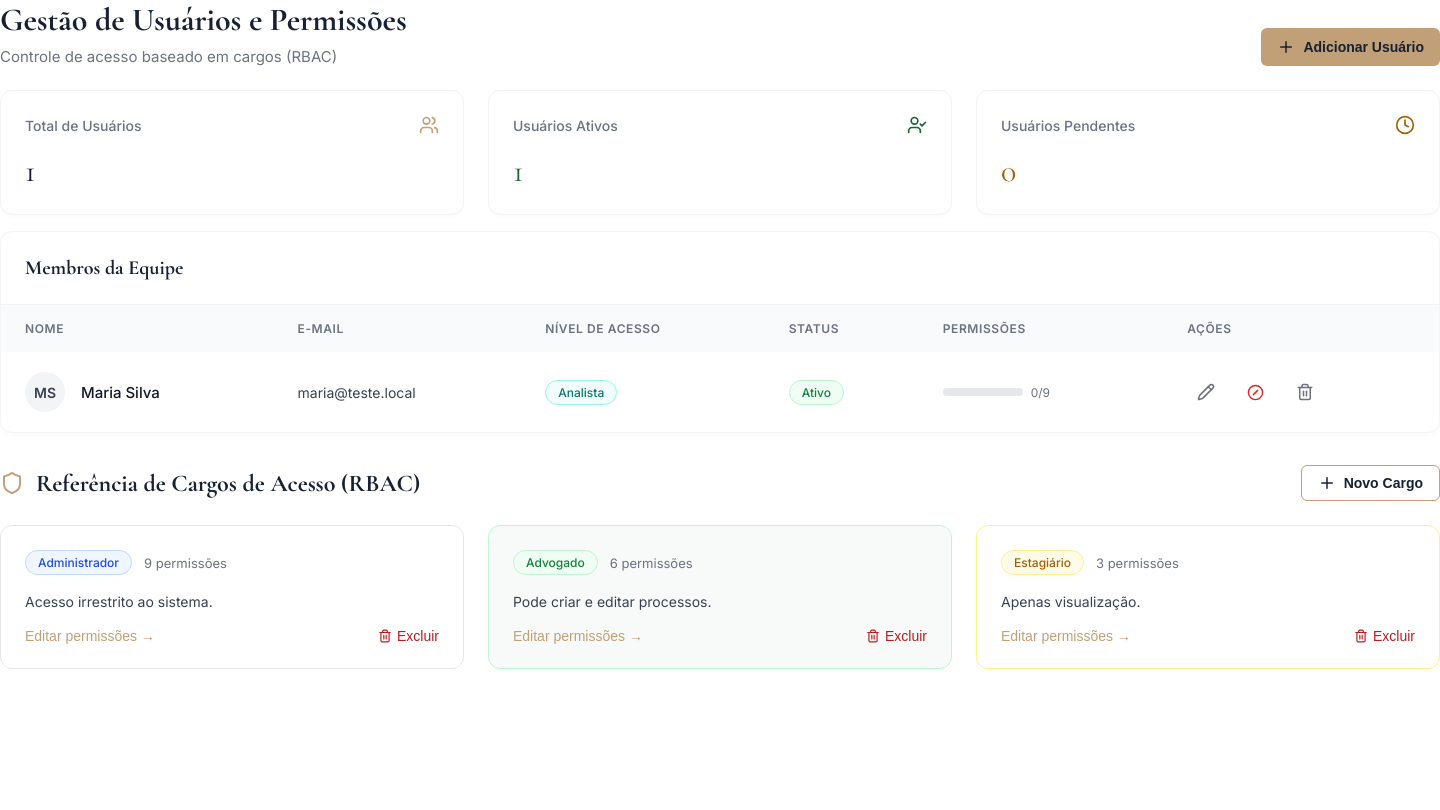
integração da página de equipe › mantém o membro e mostra erro quando a exclusão falha
The width and height of the screenshot is (1440, 810).
What coordinates should you click on to do the following:
click the button titled "Excluir usuário"
I would click on:
 (1305, 392)
Its box is [1286,375,1324,409].
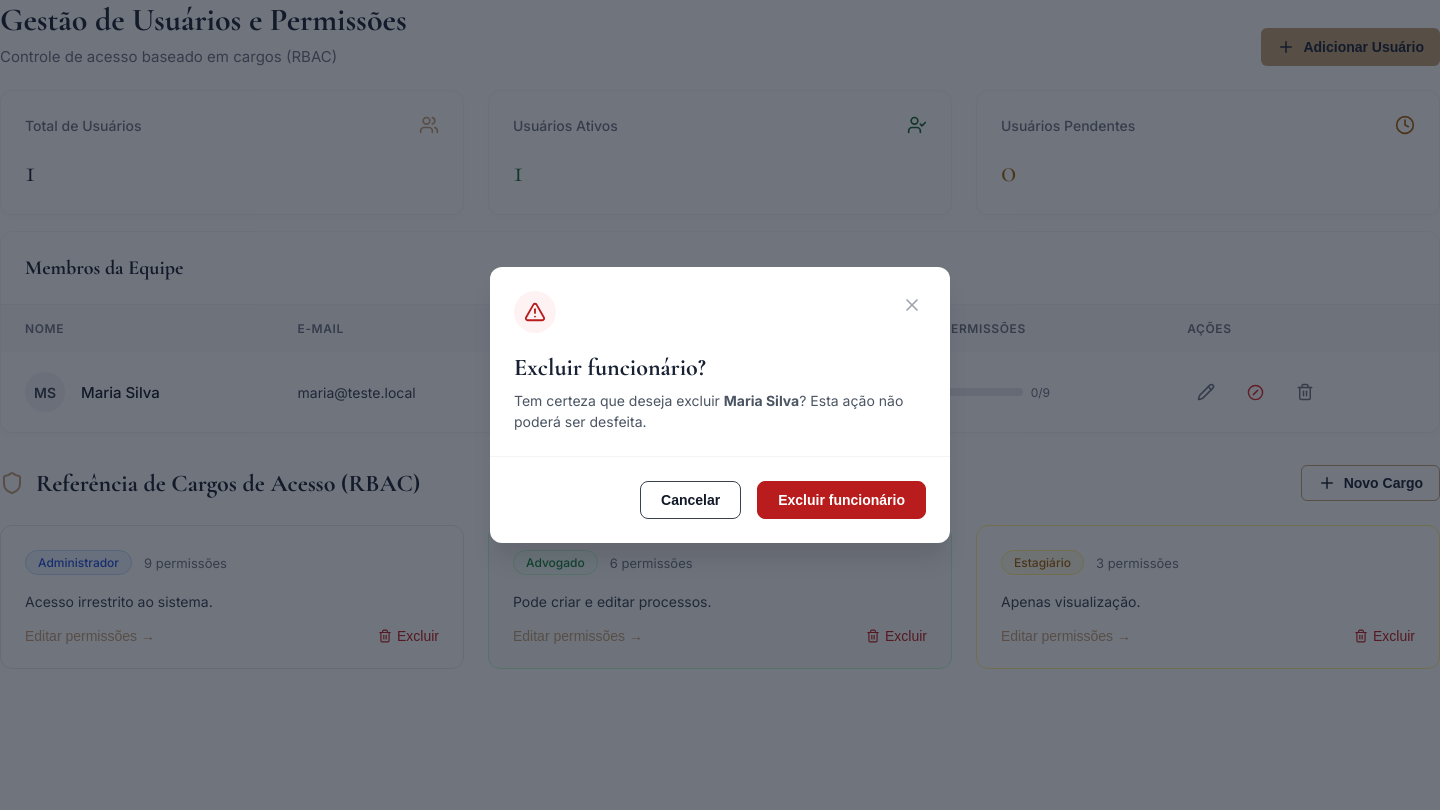
What coordinates should you click on to do the following:
click the button "Excluir funcionário"
I would click on:
 (842, 500)
Its box is [757,481,926,519].
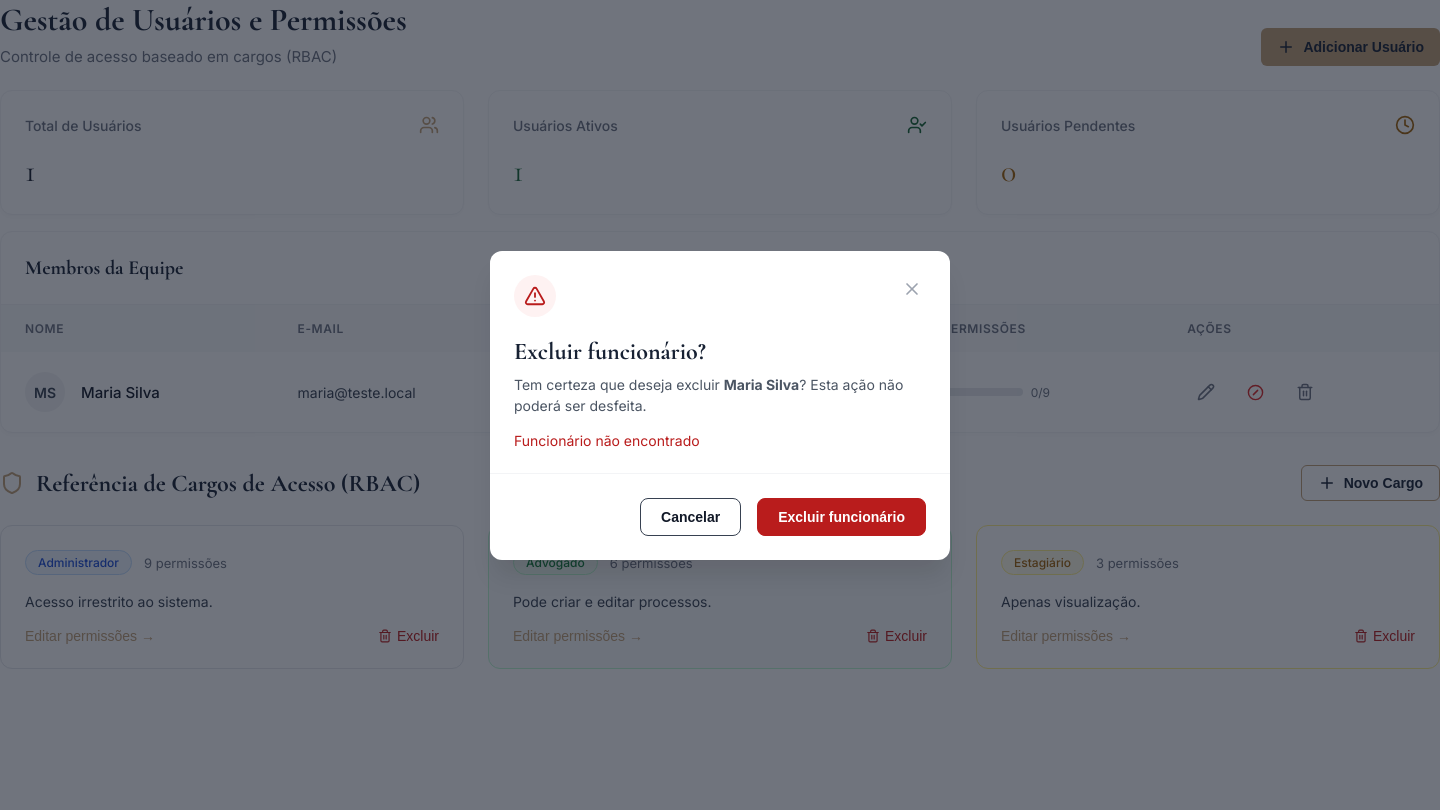
Expected: the text "Maria Silva" is shown 2 times, [81,382,160,402]; [724,376,799,392]
Expected: the text "Funcionário não encontrado" is shown, [514,432,700,448]
